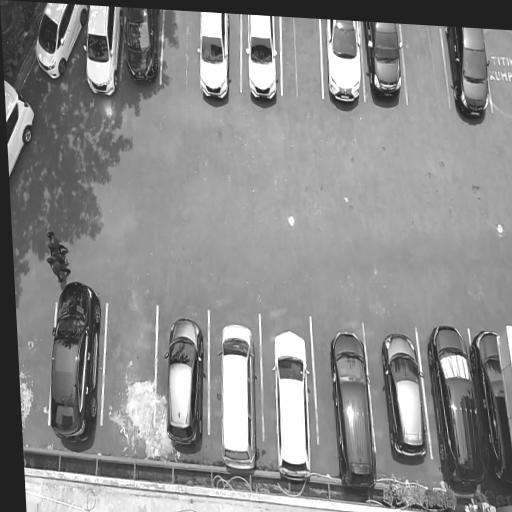Car: (39, 276, 112, 452), (425, 316, 488, 494), (323, 318, 381, 495), (264, 324, 318, 487), (214, 320, 264, 483), (378, 324, 434, 468), (470, 321, 512, 510), (160, 310, 212, 454), (447, 27, 494, 126), (79, 5, 124, 107), (31, 2, 85, 80), (320, 19, 364, 113), (4, 67, 39, 184), (362, 21, 409, 108), (241, 14, 283, 110), (195, 12, 233, 106), (121, 7, 160, 90)
Space Available: (105, 297, 155, 439), (402, 25, 449, 113), (160, 9, 202, 99), (282, 17, 323, 103), (486, 30, 512, 114)
